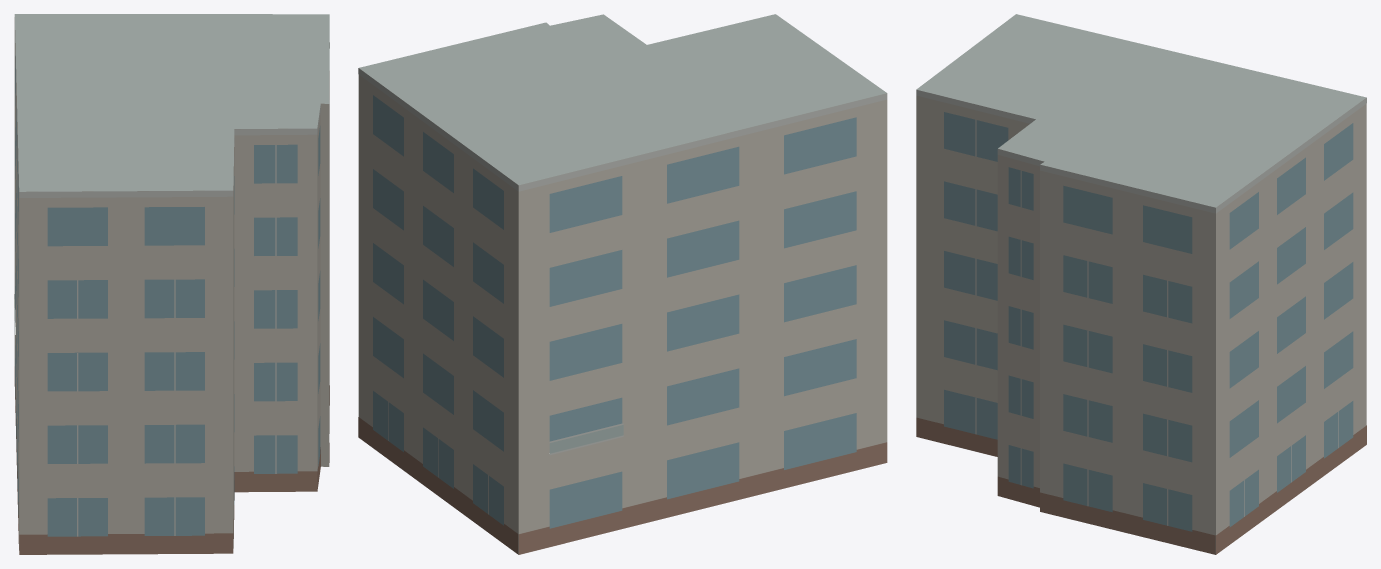
Rendered from survey-upis-32870610.glb.
The picture shows the model from 3 angles, left to right: view 1: azimuth 30°, elevation 25°; view 2: azimuth 150°, elevation 25°; view 3: azimuth 270°, elevation 25°; orthographic projection. The views are drawn at different scales.
Visible parts, largest first — view 1: survey-upis-32870610.tmp; view 2: survey-upis-32870610.tmp; view 3: survey-upis-32870610.tmp.
Boxes of the visible parts, <box> form: survey-upis-32870610.tmp: <box>14,14,329,554</box>; survey-upis-32870610.tmp: <box>358,14,887,554</box>; survey-upis-32870610.tmp: <box>916,14,1366,554</box>.
Bounding box in the file's own units: 17 × 14.2 × 16.71.
